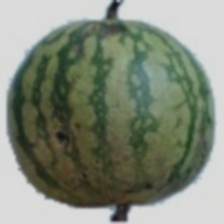watermelon: (41, 32, 210, 171)
